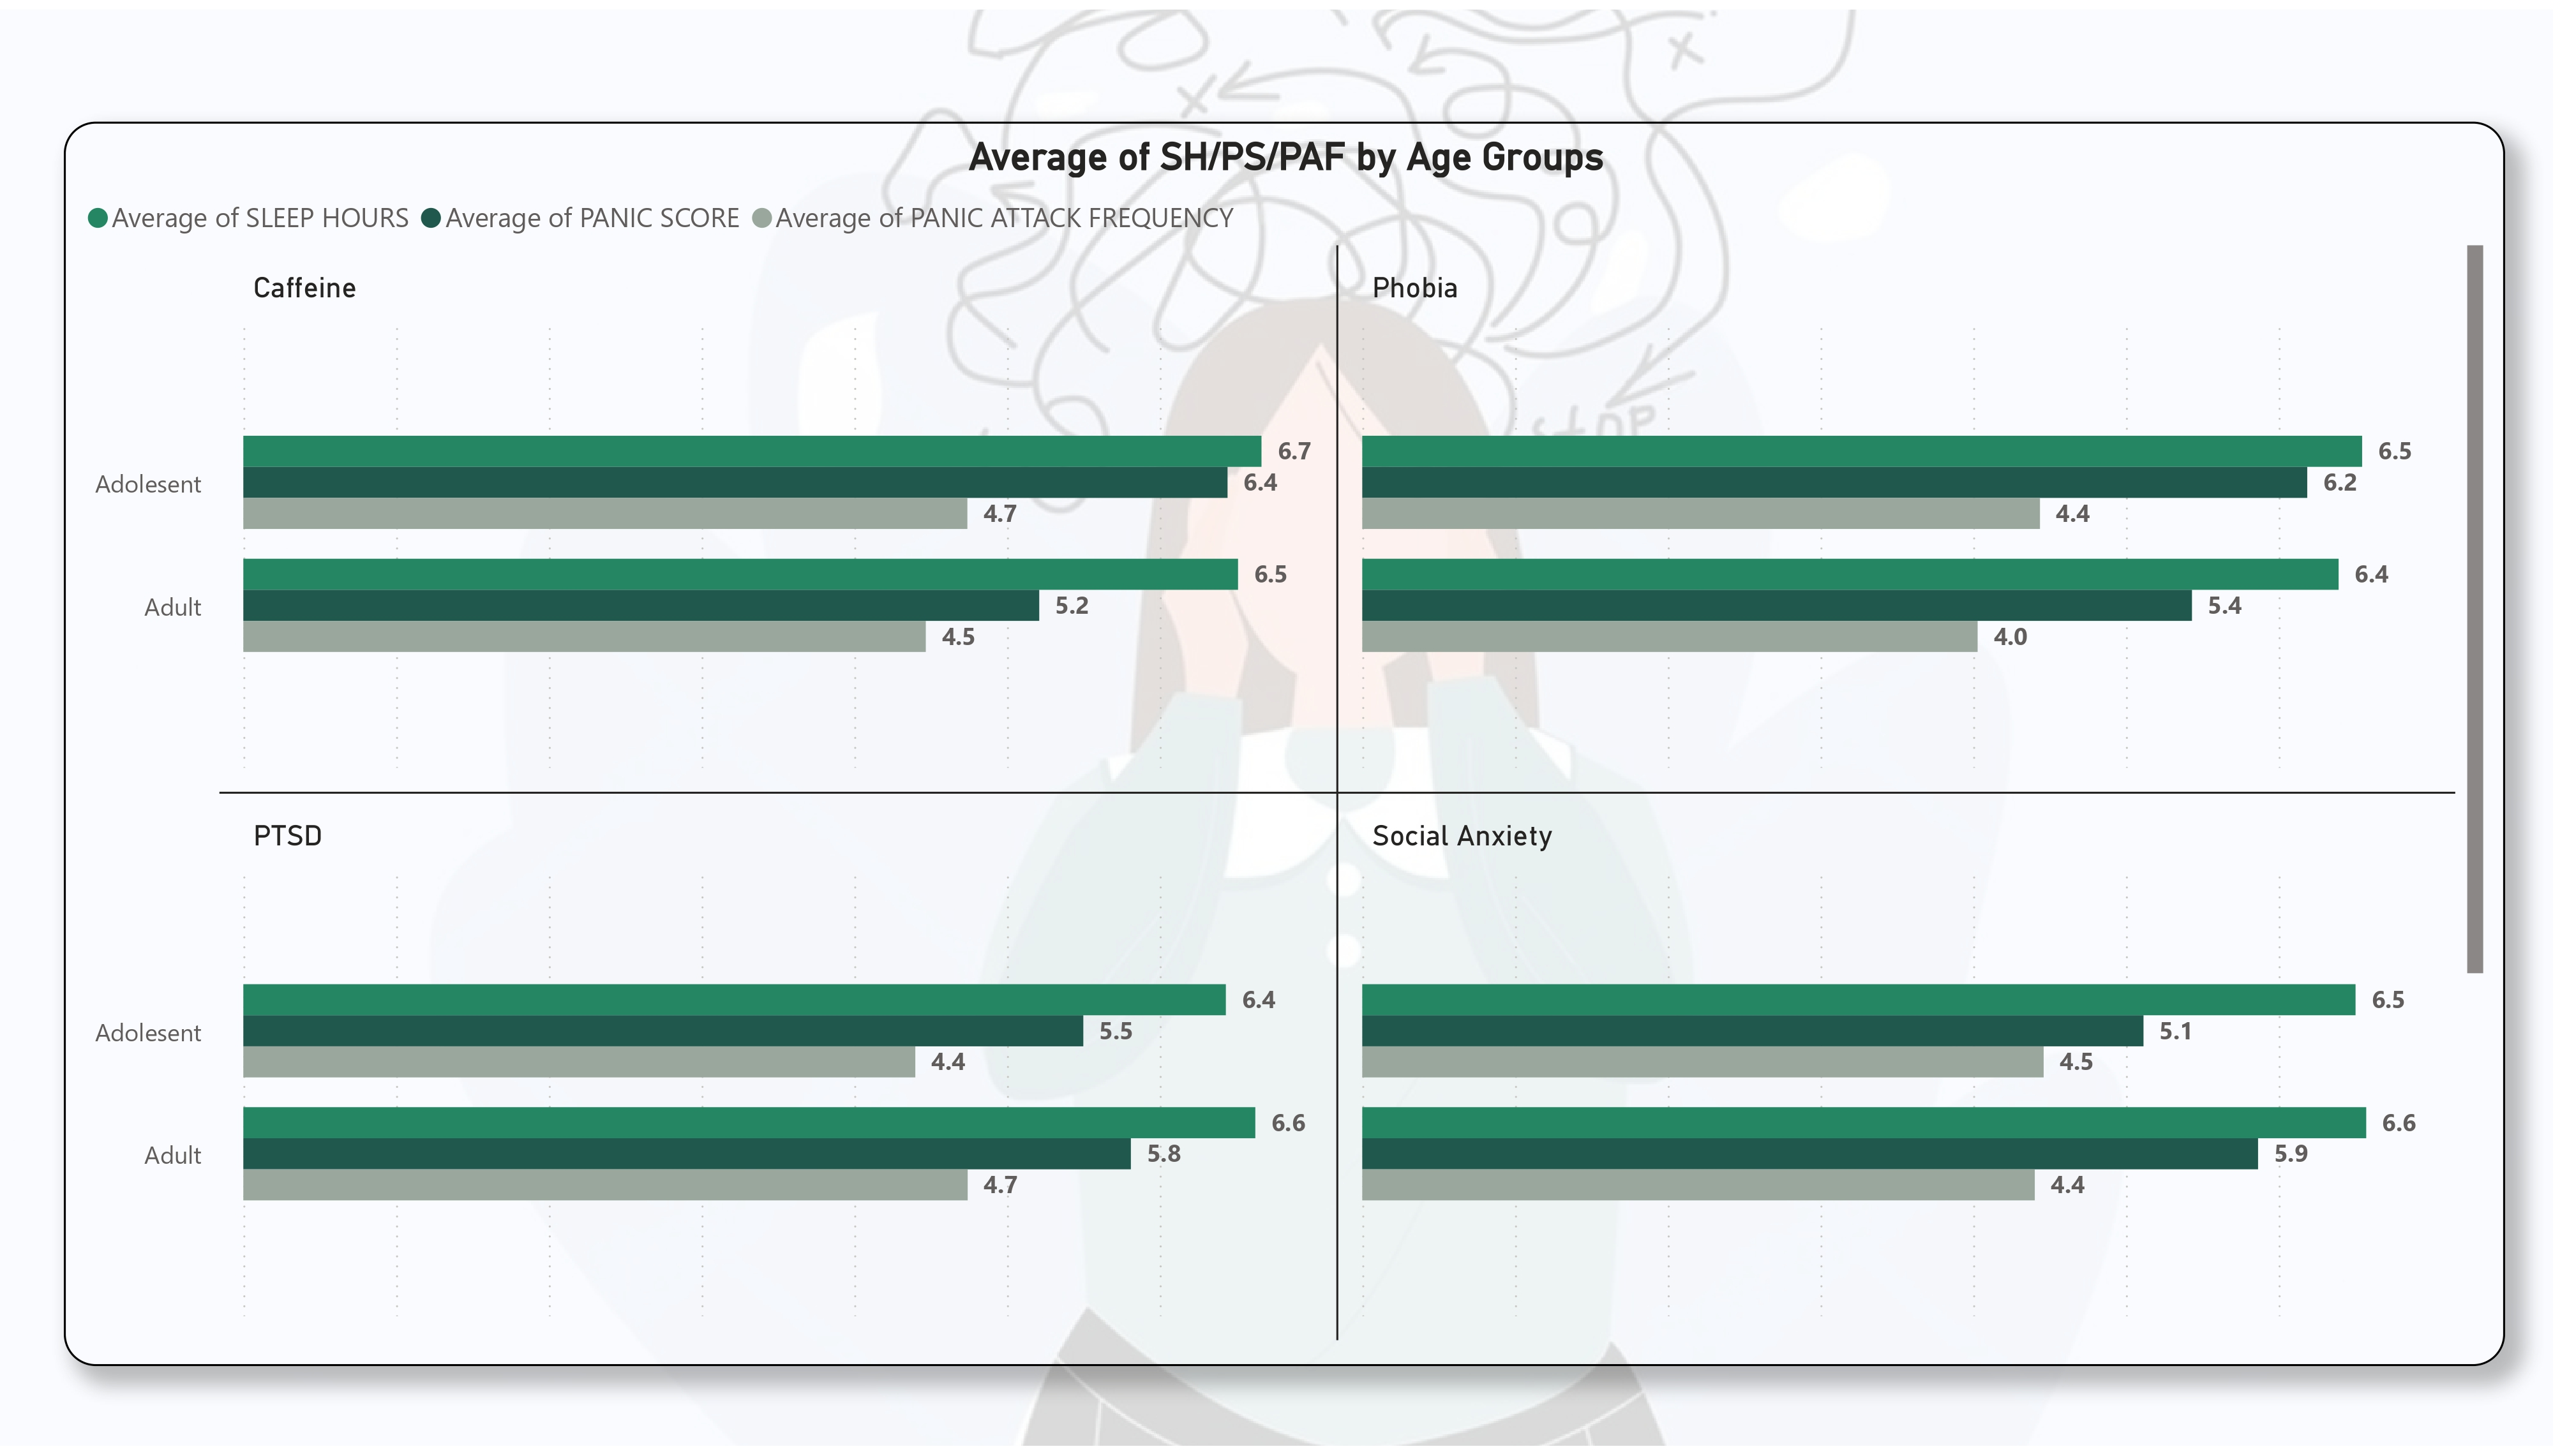

The page's visual inventory and layout, read from the dashboard file:
{"tool":"powerbi","page":{"name":"Agegroup Analysis","canvas":[1280,720],"ordinal":3},"visuals":[{"type":"clusteredBarChart","title":"Average of SH/PS/PAF by Age Groups","fields":{"Y":["Avg(PANIC_ATTACK_DATA.SLEEP_HOURS)","Avg(PANIC_ATTACK_DATA.PANIC_SCORE)","Avg(PANIC_ATTACK_DATA.PANIC_ATTACK_FREQUENCY)"],"Category":["PANIC_ATTACK_DATA.Age Group"],"Rows":["PANIC_ATTACK_DATA.TRIGGER_REASON"]},"box":[32,56,1224,624],"z":0}]}

Visuals, with their boxes in screenshot pixels (x1, y1, x2, y2), scaled from the page's 1280x720 canvas onto the 2553x1456 screenshot:
"Average of SH/PS/PAF by Age Groups" clusteredBarChart: crop(64, 113, 2505, 1375)
